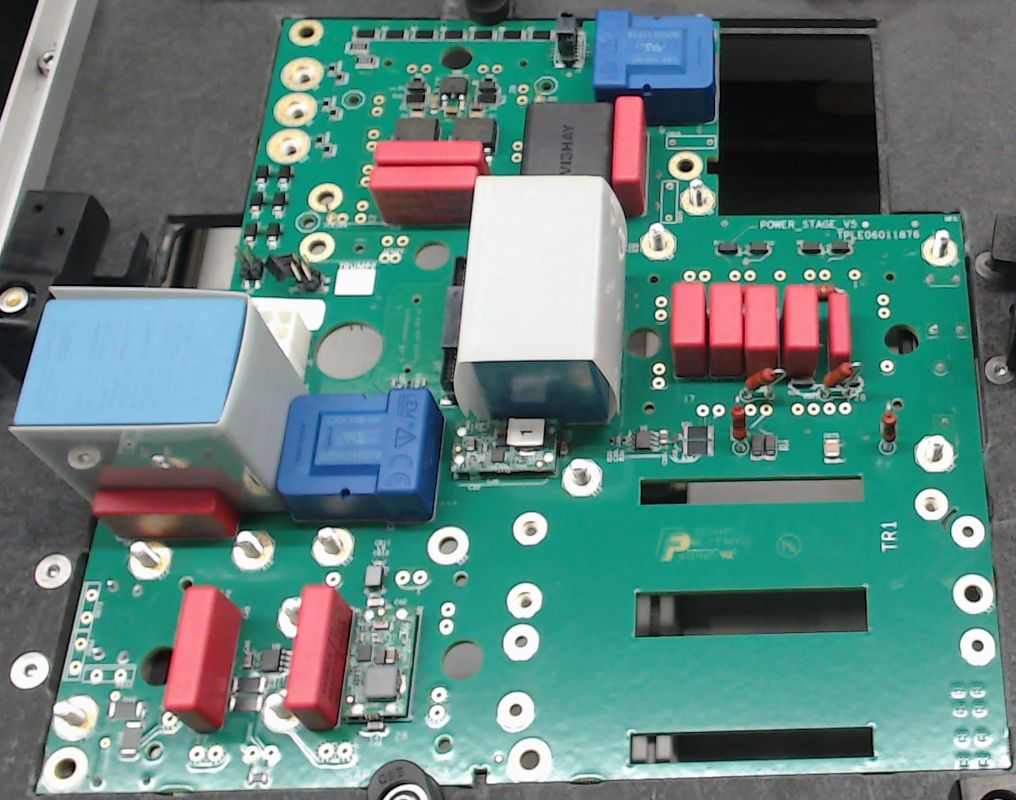comp1: (277, 386, 445, 519), (593, 9, 715, 124)
comp2: (163, 585, 244, 733), (285, 586, 353, 730), (91, 490, 239, 540), (370, 164, 478, 227), (610, 95, 647, 213), (781, 283, 818, 381), (707, 280, 743, 379), (672, 280, 706, 378), (744, 281, 778, 374), (374, 141, 485, 164), (827, 290, 853, 370)
comp3: (521, 100, 613, 179)
comp4: (10, 286, 309, 514), (454, 177, 626, 423)
